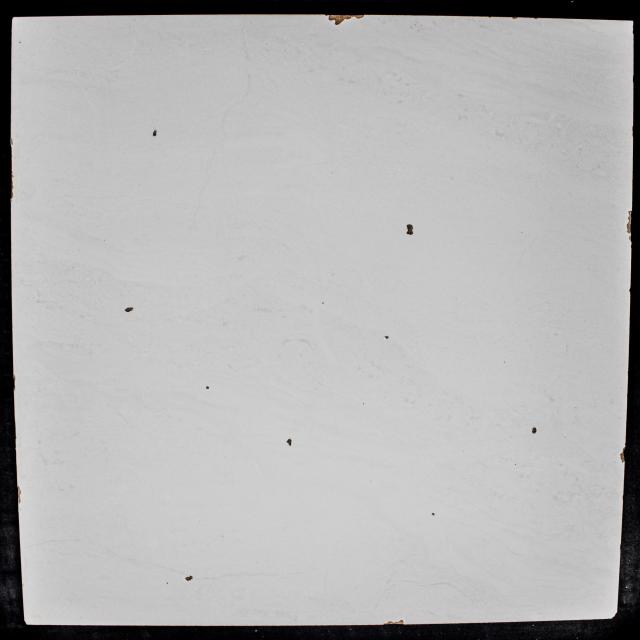edge-chipping: (328, 14, 344, 26), (619, 452, 626, 463), (383, 621, 397, 625), (626, 223, 631, 234), (13, 375, 16, 391), (10, 146, 12, 170), (17, 486, 22, 495), (354, 15, 365, 19), (10, 190, 14, 199), (346, 14, 352, 20), (627, 216, 632, 223), (628, 235, 632, 243), (398, 620, 404, 625), (18, 496, 21, 505), (11, 171, 14, 178), (628, 210, 632, 215), (622, 447, 626, 451), (24, 620, 27, 625), (512, 17, 518, 19)
hole: (406, 224, 414, 235), (124, 307, 134, 313), (286, 438, 292, 447), (185, 575, 193, 581), (532, 427, 538, 434), (152, 129, 157, 137), (384, 334, 389, 340), (11, 179, 14, 189), (11, 138, 14, 145), (206, 386, 210, 390), (431, 512, 435, 516)
